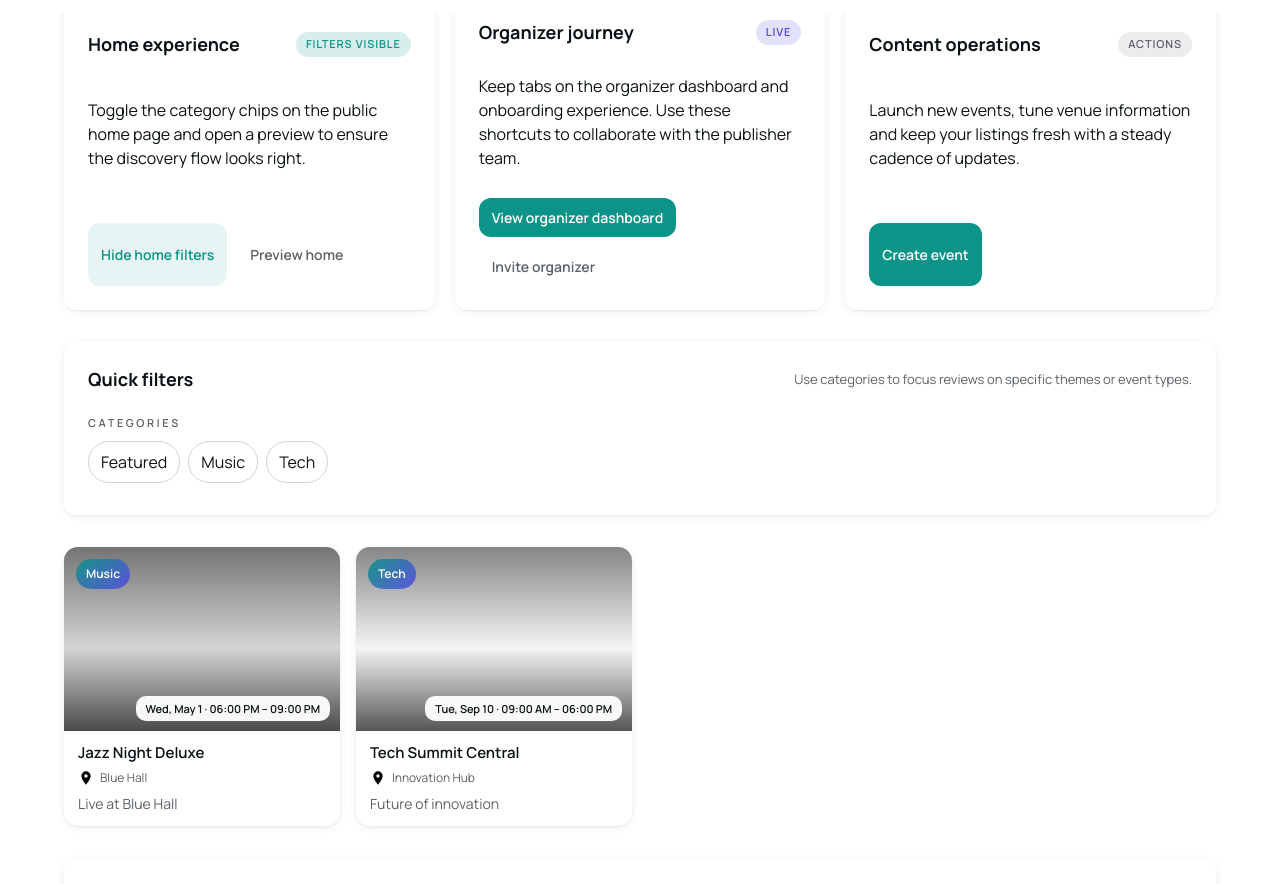
it: Admin dashboard integration › shows analytics, filters events and updates organizer state
(page scrolled)
Check: the heading "Jazz Night Deluxe" is shown, box [78,742,204,763]
Check: the heading "Tech Summit Central" is shown, box [370,742,520,763]
Click the button "Music" at (223, 462), box [188,441,258,483]
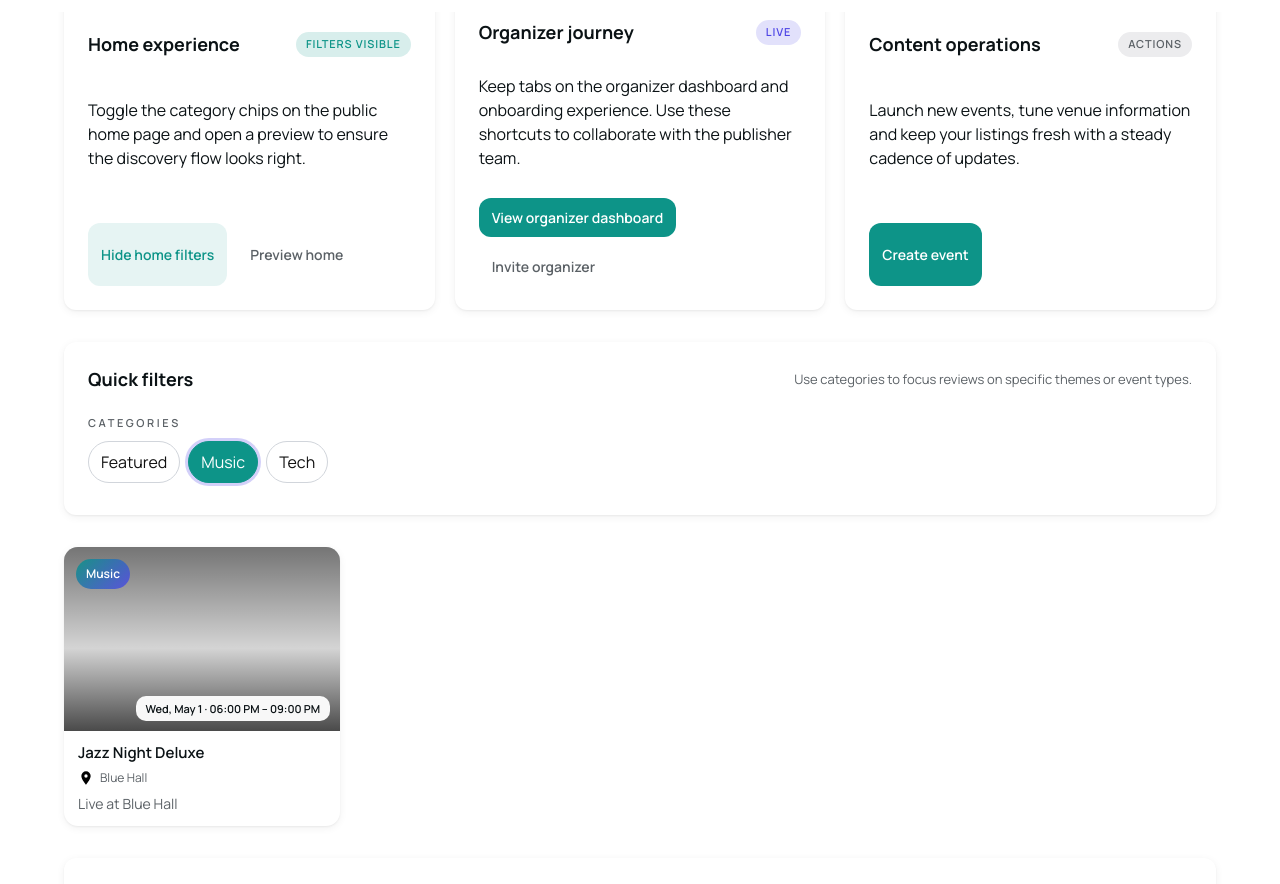
Check: the heading "Jazz Night Deluxe" is shown, box [78,742,204,763]
Check: the link "Tech Summit Central" is gone
Click the button "Hide home filters" at (158, 254), box [88,223,227,286]
(page scrolled)
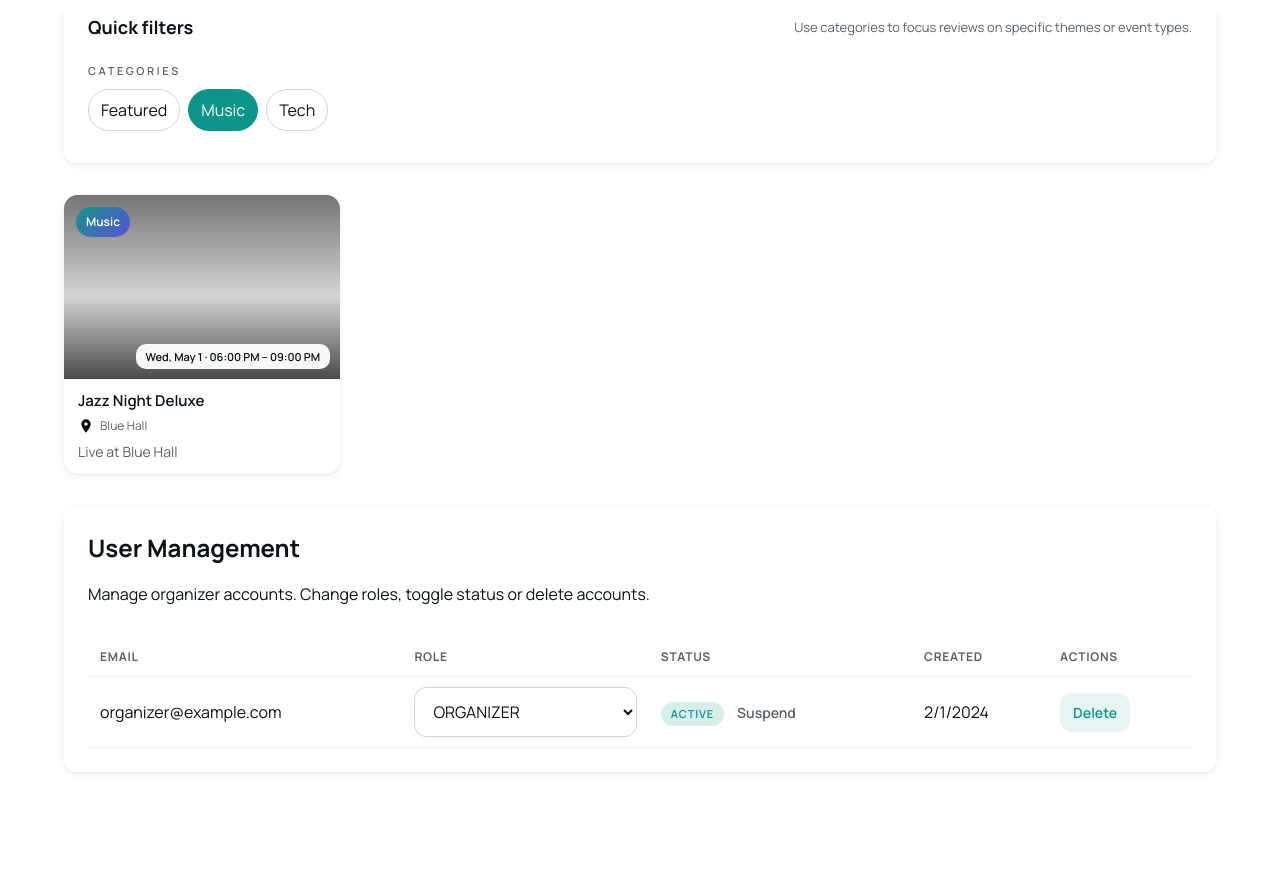
Select "ADMIN" in the dropdown showing "ORGANIZER" at (526, 712), box [414,687,637,737]
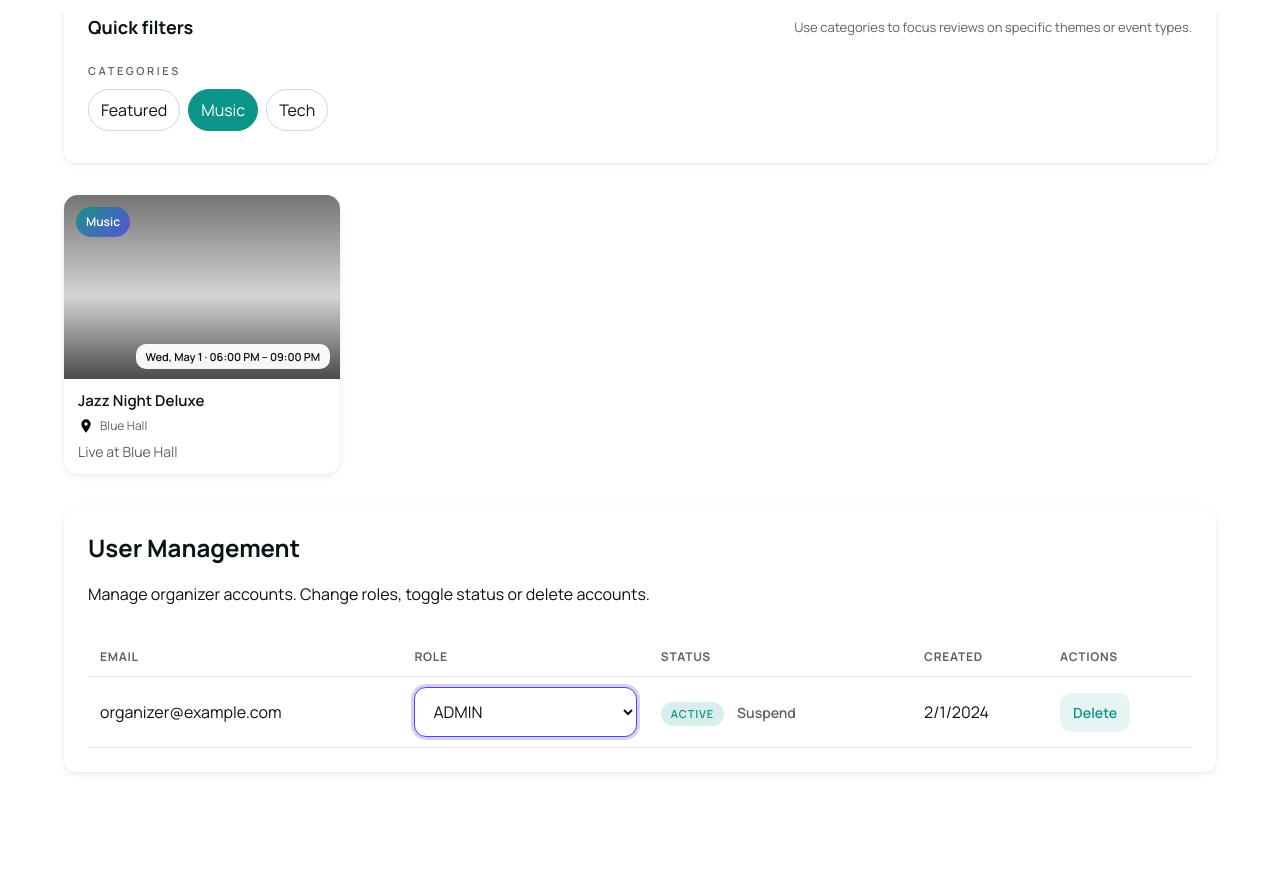
Click the button "Suspend" at (766, 712), box [724,693,809,732]
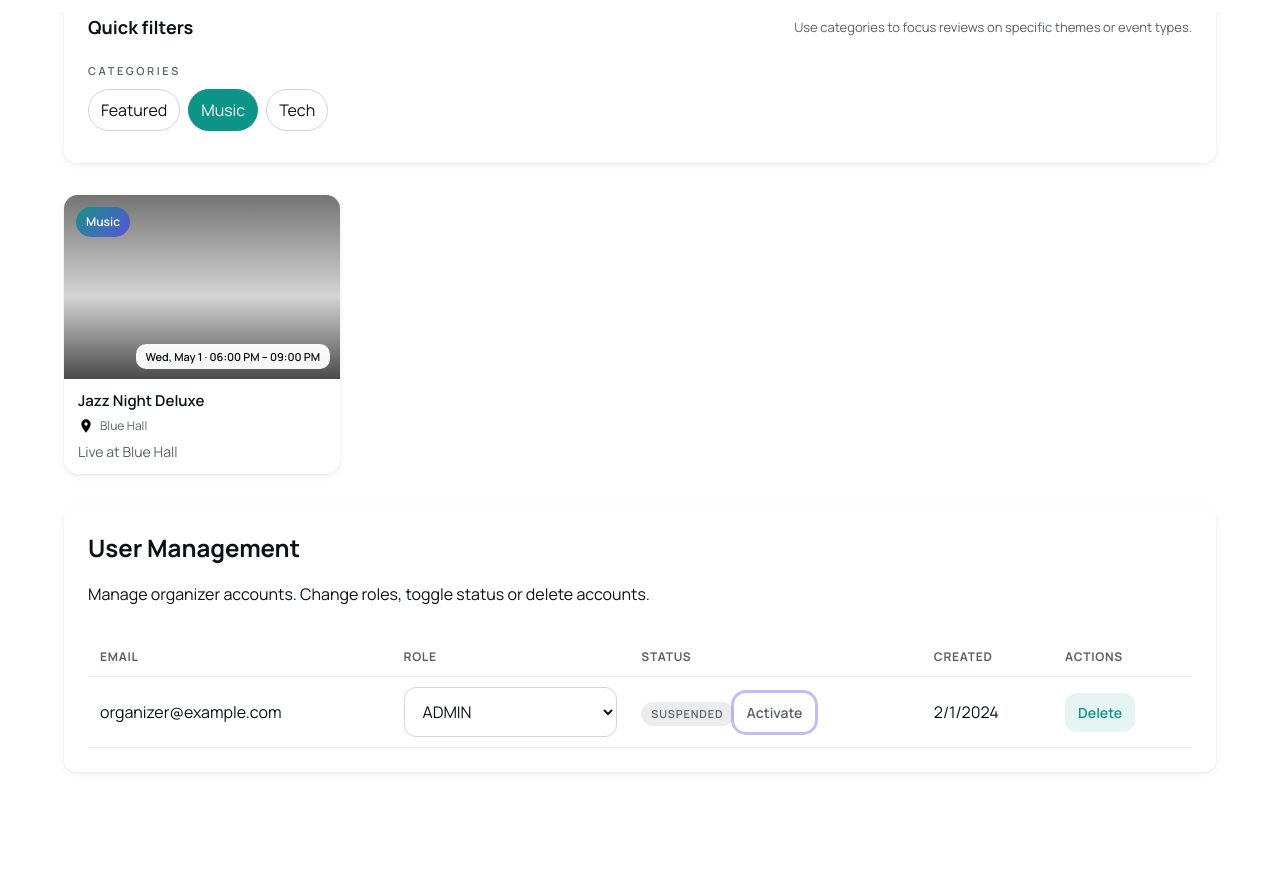
Check: the button named "Suspend" reads "Activate", box [734,693,815,732]
Check: the text "SUSPENDED" is shown, box [641,702,734,726]
